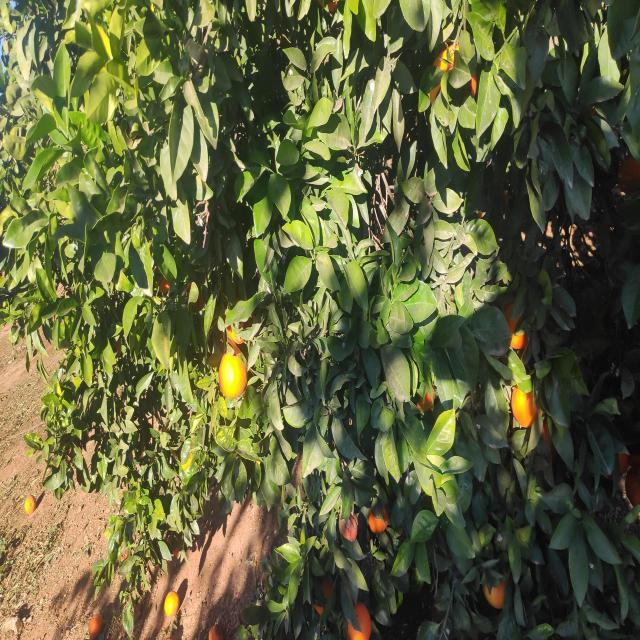Jeruk Sudah Matang: (429, 44, 477, 114), (218, 352, 248, 399), (503, 303, 529, 350), (225, 300, 252, 344), (512, 384, 537, 428), (348, 603, 372, 640), (484, 577, 506, 610), (314, 579, 334, 615), (416, 384, 436, 412), (369, 507, 388, 535), (626, 466, 640, 504), (153, 268, 169, 296), (88, 614, 104, 640), (164, 590, 179, 617), (24, 496, 36, 514)
